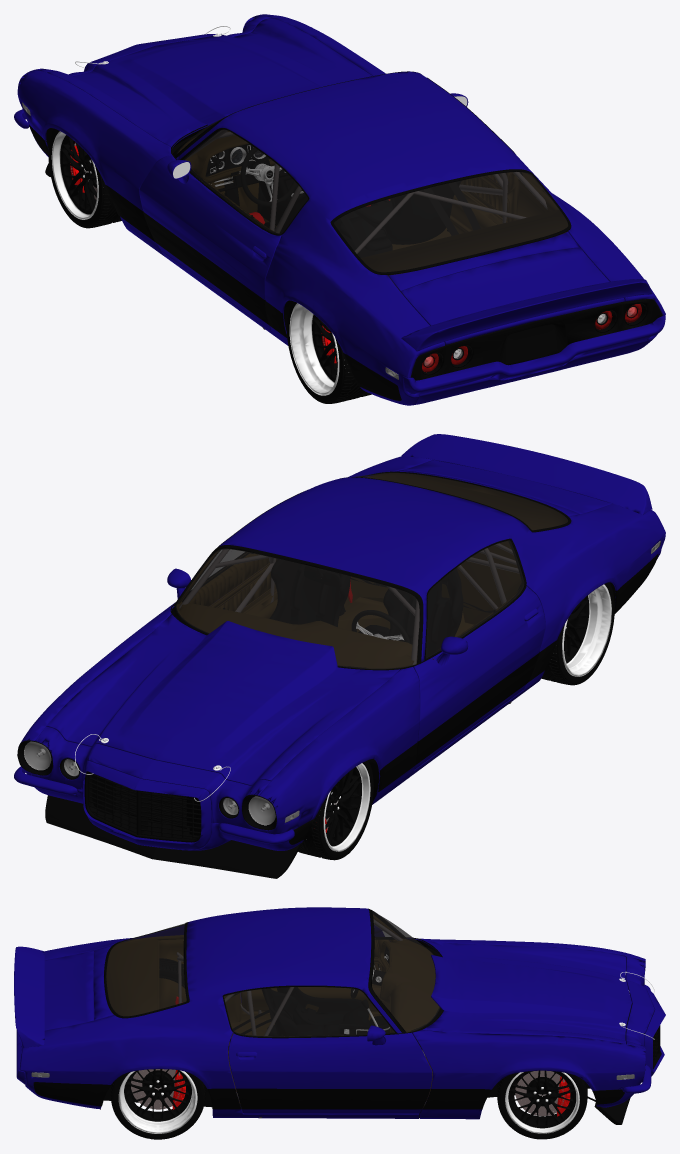
The model's file is chevrolet-camaro-pro.glb.
The picture shows the model from 3 angles, top to bottom: view 1: azimuth 30°, elevation 25°; view 2: azimuth 150°, elevation 25°; view 3: azimuth 270°, elevation 25°; orthographic projection. The views are drawn at different scales.
Parts seen in each view (by area): view 1: 3DSMeshMatrix (×28); view 2: 3DSMeshMatrix (×33); view 3: 3DSMeshMatrix (×32).
Part boxes in pixels (left/top/right/bottom): 3DSMeshMatrix (×28): left=14, top=14, right=665, bottom=405; 3DSMeshMatrix (×33): left=14, top=434, right=665, bottom=878; 3DSMeshMatrix (×32): left=14, top=907, right=665, bottom=1139.
Size of the model in its own units: 1940 by 1175 by 4613.
15 materials, 2 textured.
